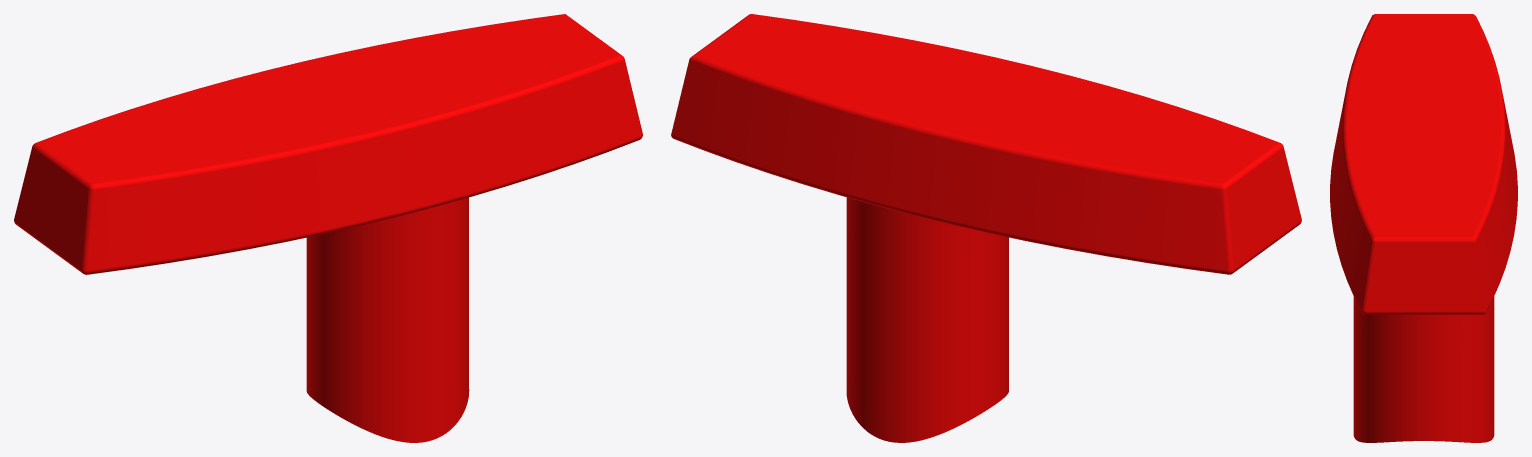
File: VDL_6_20_110_ball_valve_handle.dae
3 views of the same model, side by side, from view 1: azimuth 30°, elevation 25°; view 2: azimuth 150°, elevation 25°; view 3: azimuth 270°, elevation 25° (orthographic). The views are drawn at different scales.
Visible parts, largest first — view 1: mesh9; view 2: mesh9; view 3: mesh9.
Boxes of the visible parts, x1=… form: mesh9: x1=14, y1=14, x2=642, y2=442; mesh9: x1=671, y1=14, x2=1301, y2=442; mesh9: x1=1330, y1=14, x2=1517, y2=442.
Size of the model in its own units: 0.2262 by 0.0758 by 0.1261.
